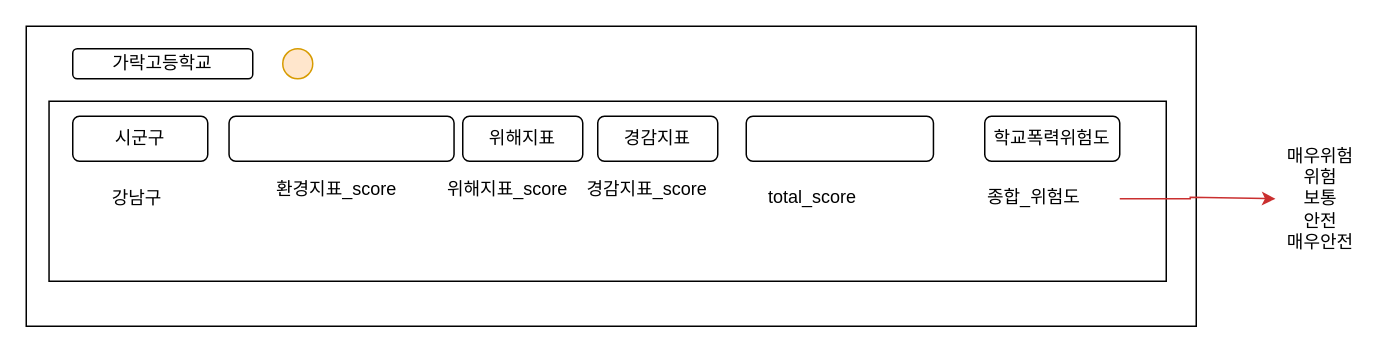
Some shapes in this 1392 by 353 pixel diagram are drawn without their labels. The centre of each missing label's shape, as x and y in pixels:
개포고등학교점수: (839,138)
환경지표: (341,138)
